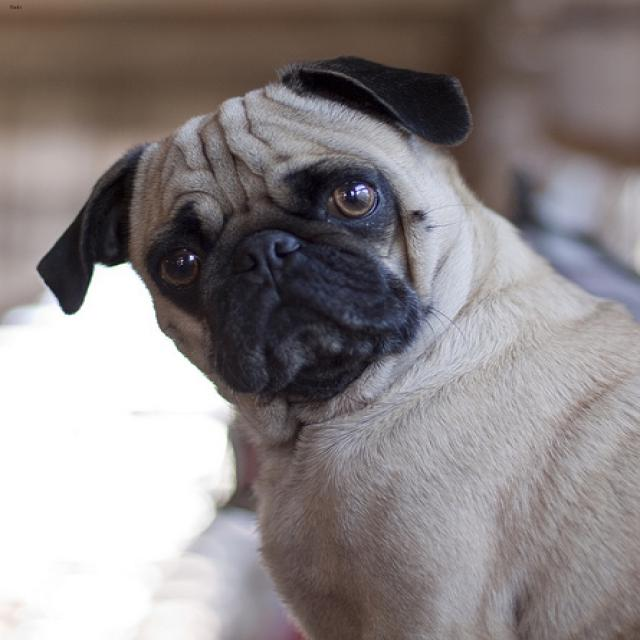dog-pug: (32, 46, 637, 637)
